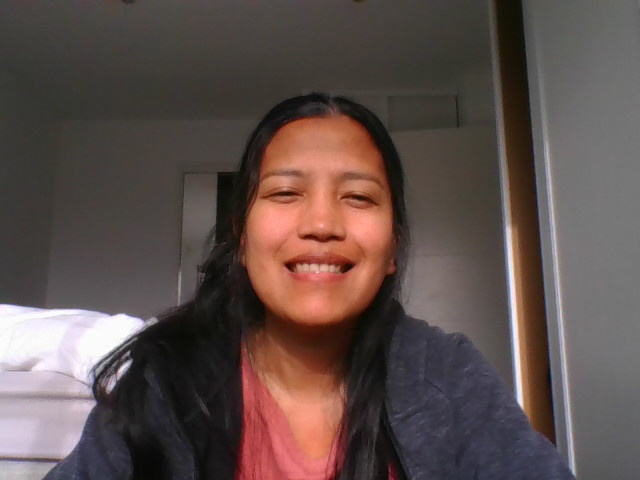face: (237, 95, 396, 323)
